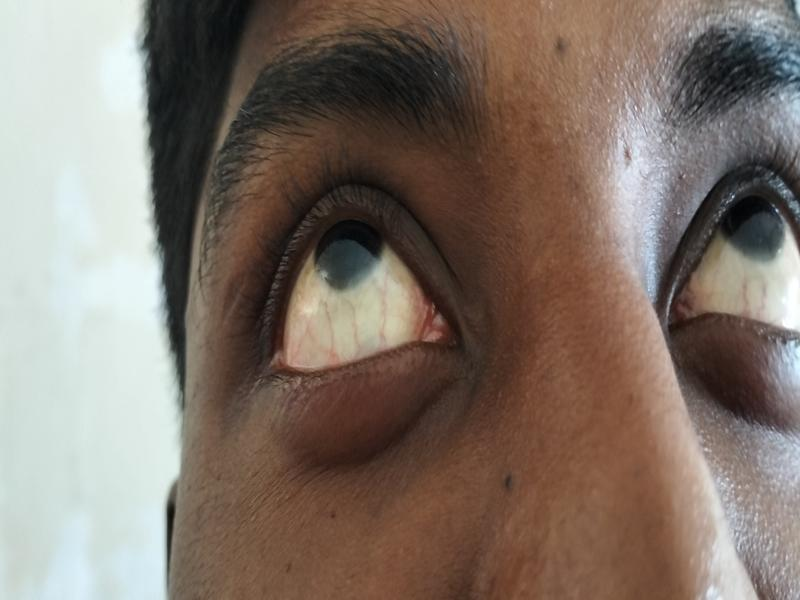EYE UP: (265, 225, 416, 354), (685, 193, 799, 326)
